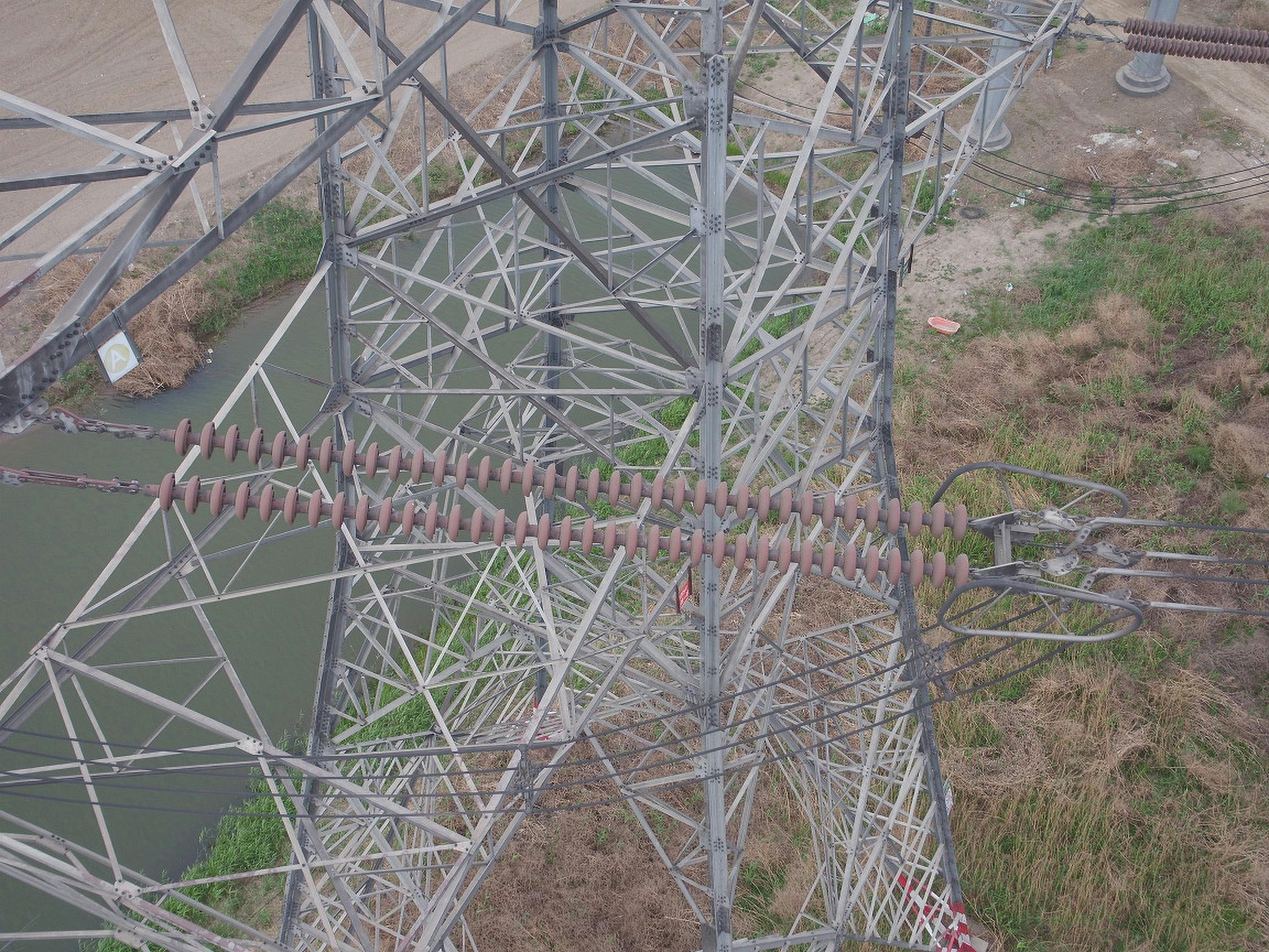insulator: (150, 414, 977, 596), (1118, 12, 1269, 71)
